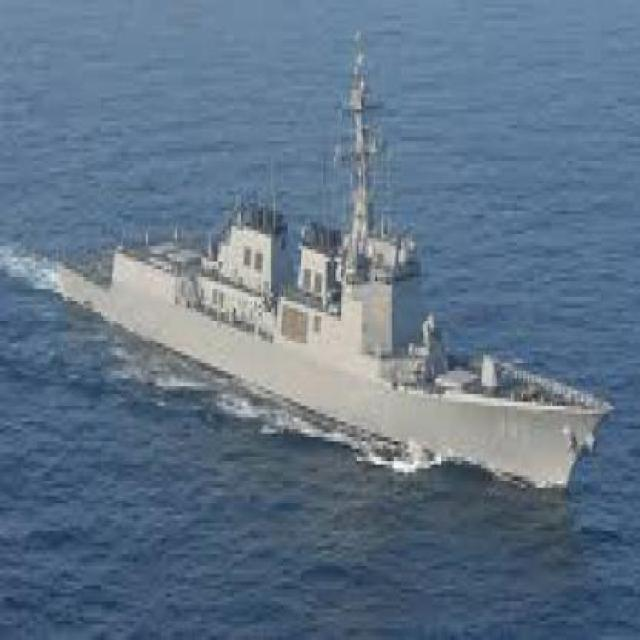warship2: (32, 20, 618, 520)
